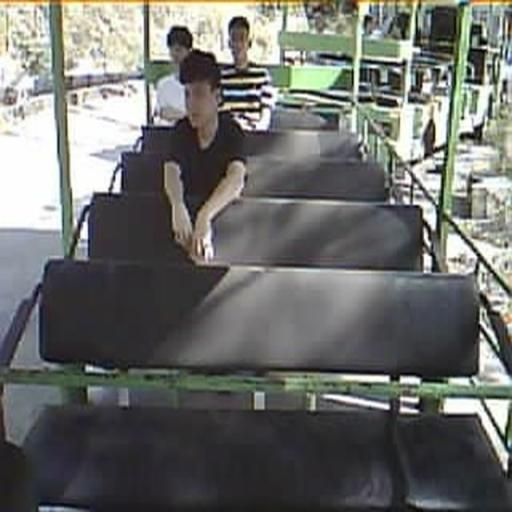persona: (159, 49, 248, 262), (216, 15, 278, 135), (152, 24, 194, 124)
